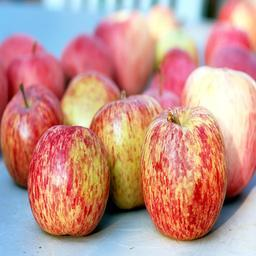apple: (139, 105, 227, 239), (184, 65, 256, 202), (28, 124, 113, 239), (90, 93, 170, 213), (1, 88, 61, 189)
